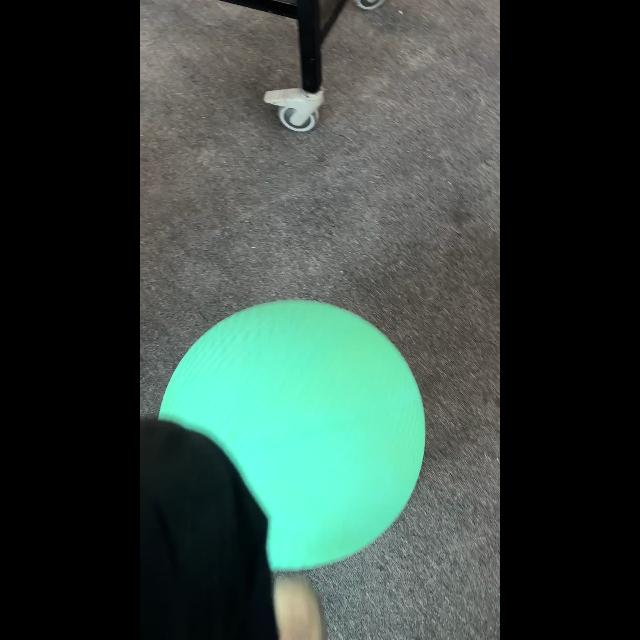ALGAE: (158, 298, 426, 572)
